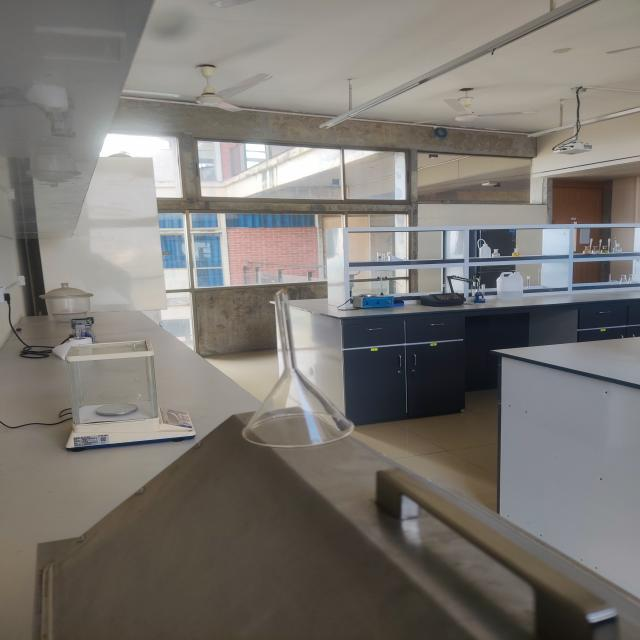Funnel: (231, 277, 372, 471)
